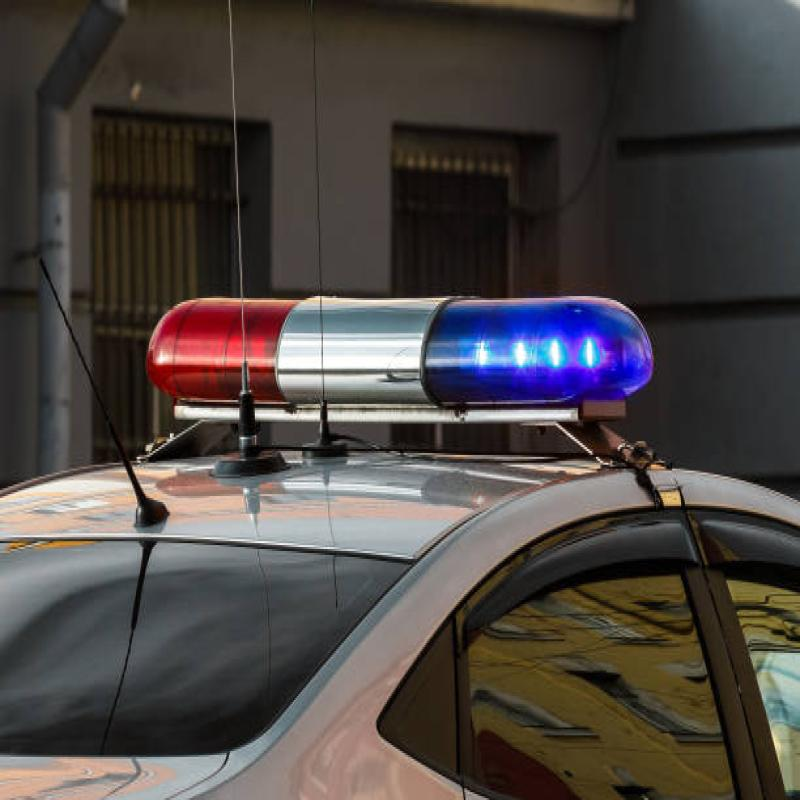AmbulanceSiren: (150, 268, 671, 478)
